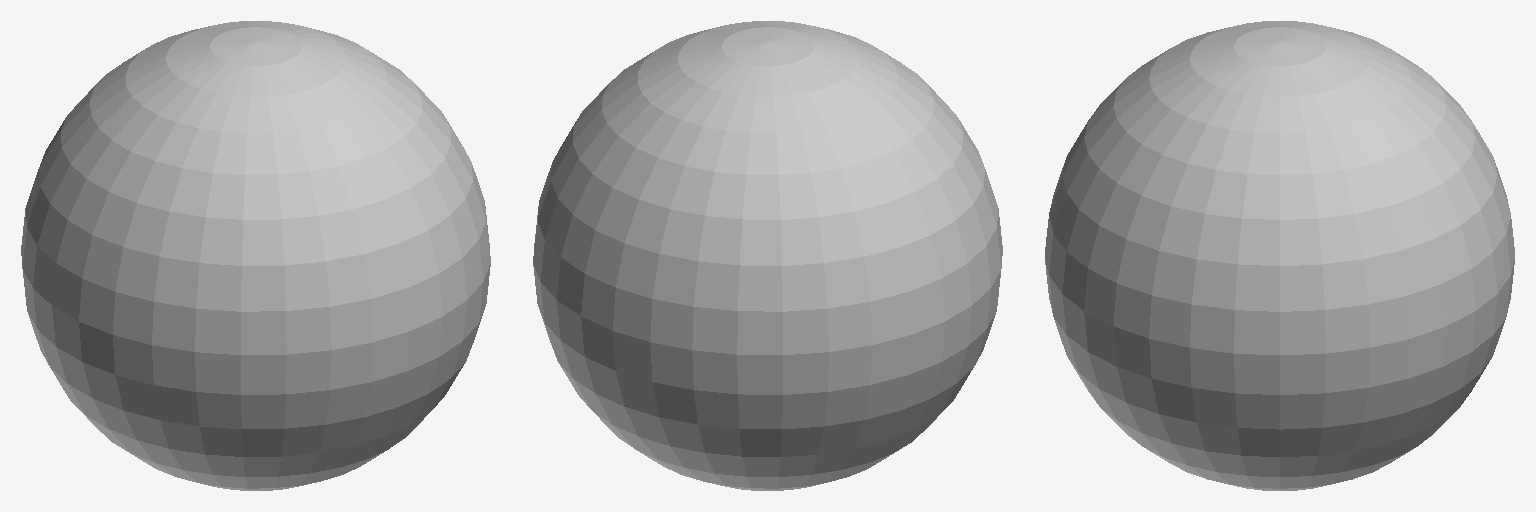
File: highPolygonSphere.obj
The picture shows the model from 3 angles: view 1: azimuth 30°, elevation 25°; view 2: azimuth 150°, elevation 25°; view 3: azimuth 270°, elevation 25°; orthographic projection.
Visible parts, largest first — view 1: 球; view 2: 球; view 3: 球.
Part boxes in pixels (x1,y1,x2,y2): 球: (21,21,490,490); 球: (533,21,1002,490); 球: (1045,21,1514,490).
Bounding box in the file's own units: 2 × 2 × 2.